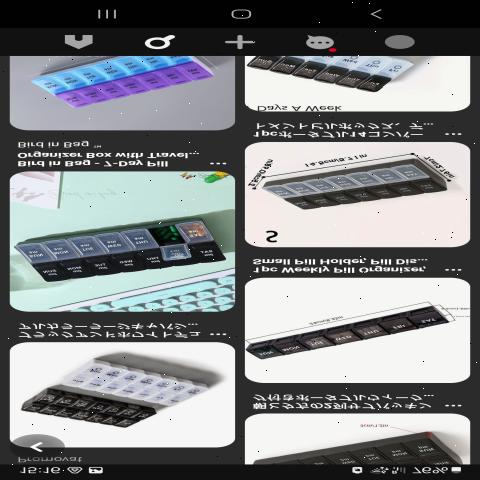PillBox: (13, 212, 232, 290), (251, 295, 463, 365), (253, 149, 463, 219), (15, 390, 156, 432)
